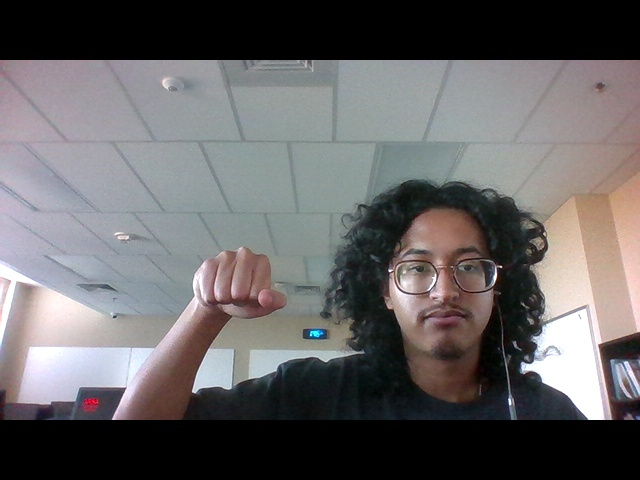yes: (184, 240, 297, 344)
